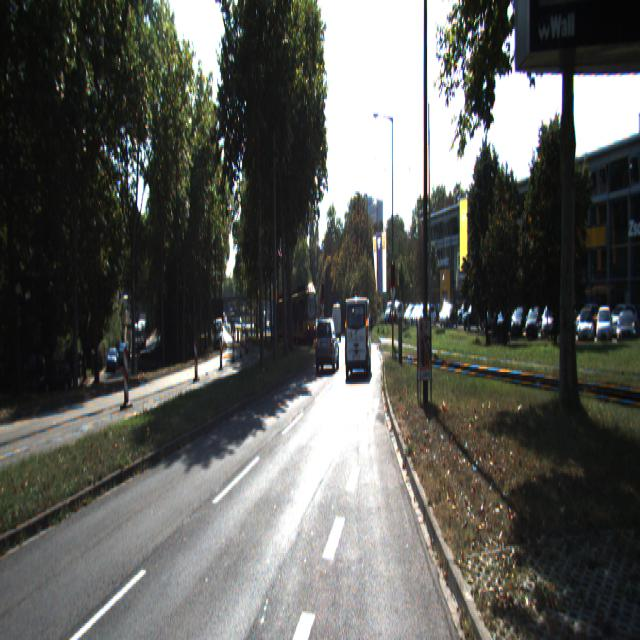Car: (346, 298, 372, 383), (281, 286, 317, 345), (314, 317, 339, 374)
